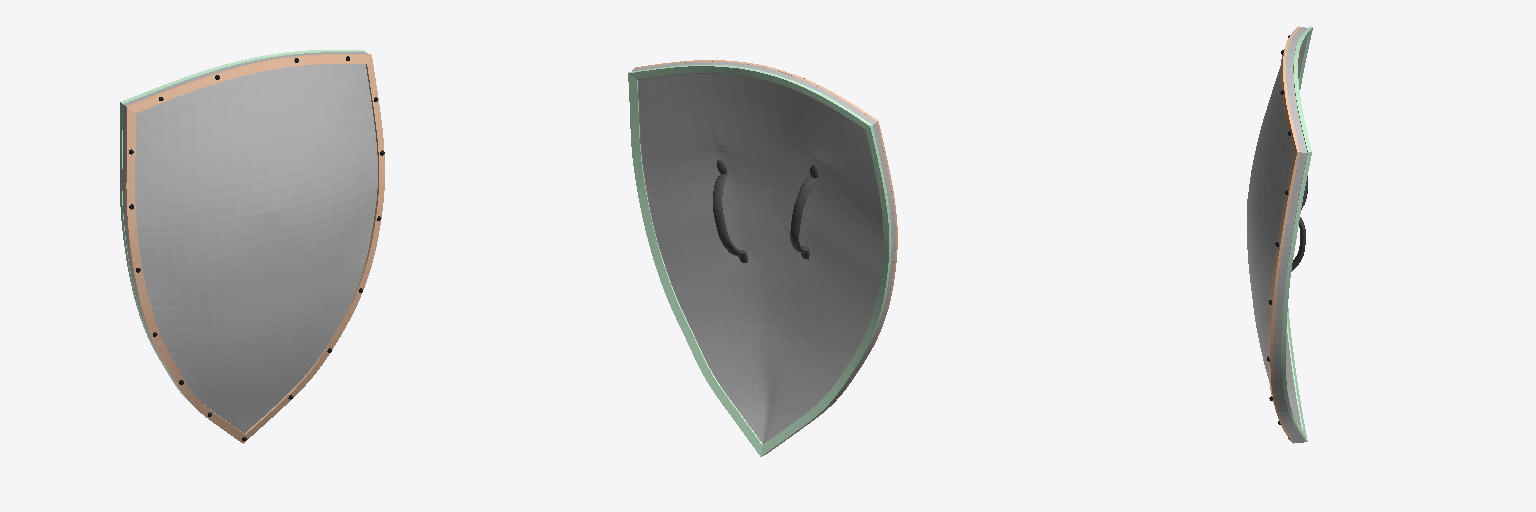
File: GondorShield.obj
3 views of the same model, side by side, from view 1: azimuth 30°, elevation 25°; view 2: azimuth 150°, elevation 25°; view 3: azimuth 270°, elevation 25° (orthographic).
Visible parts, largest first — view 1: shield_default6; view 2: shield_default6; view 3: shield_default6.
Part boxes in pixels (left/top/right/bottom): shield_default6: left=120, top=50, right=384, bottom=443; shield_default6: left=628, top=60, right=897, bottom=456; shield_default6: left=1247, top=26, right=1312, bottom=443.
Size of the model in its own units: 1.39 by 1.96 by 0.3103.